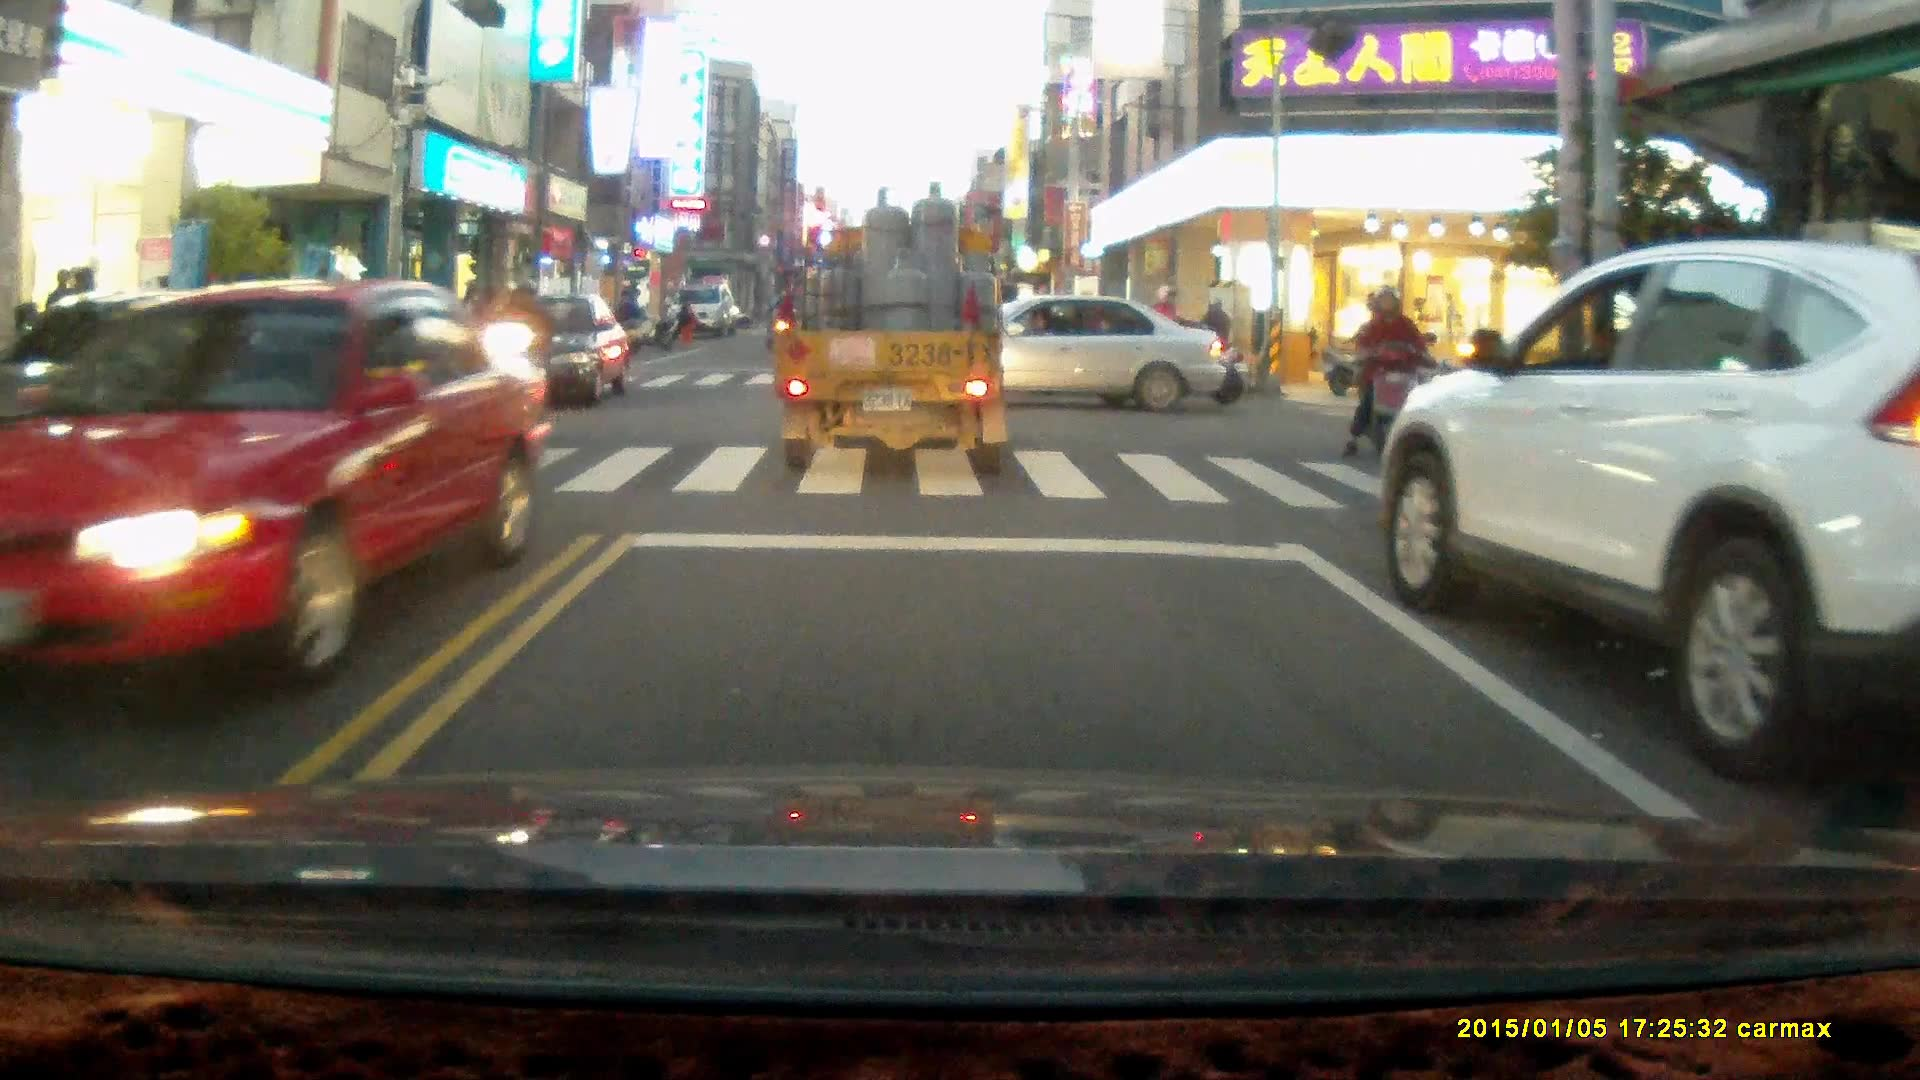pedestrian: (617, 285, 644, 348)
rider: (1338, 282, 1443, 475), (477, 279, 558, 462), (1156, 292, 1250, 398)
vehicle: (1372, 238, 1920, 801), (1, 275, 558, 722), (776, 190, 1019, 472), (887, 292, 1233, 415), (668, 284, 736, 336)
